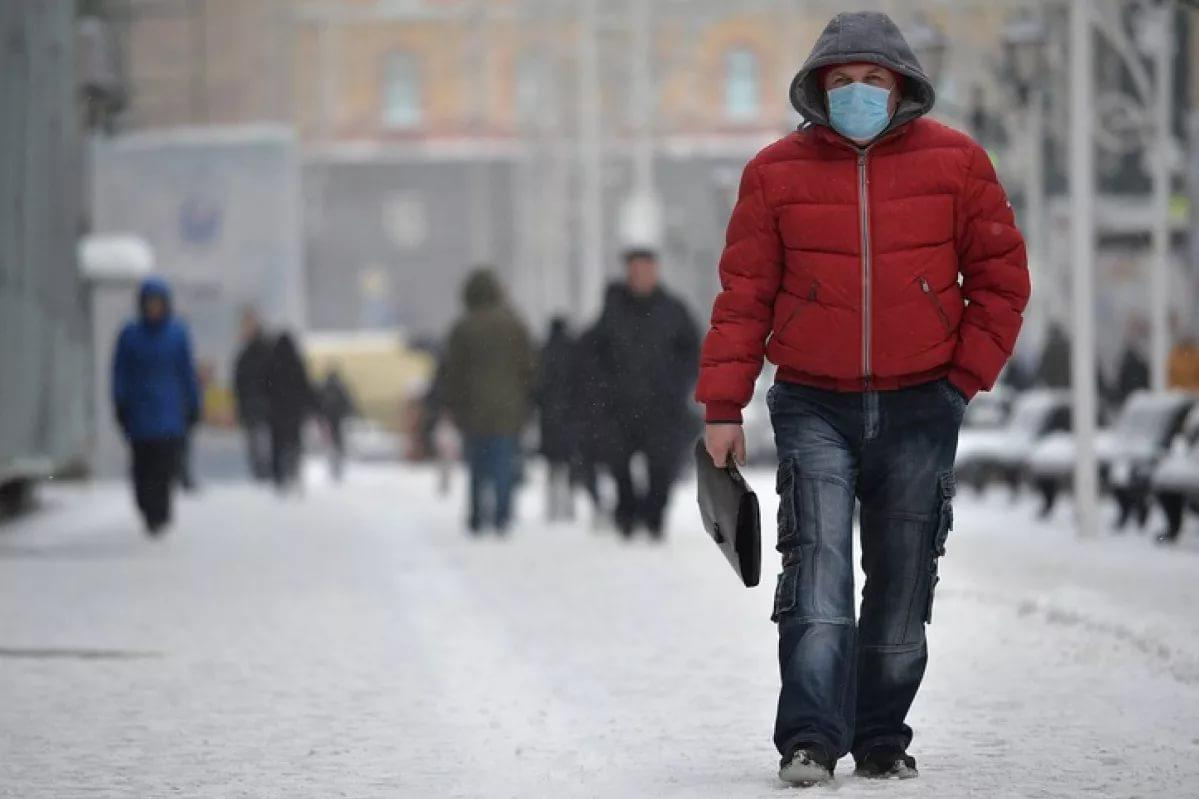mask: (818, 46, 907, 144)
